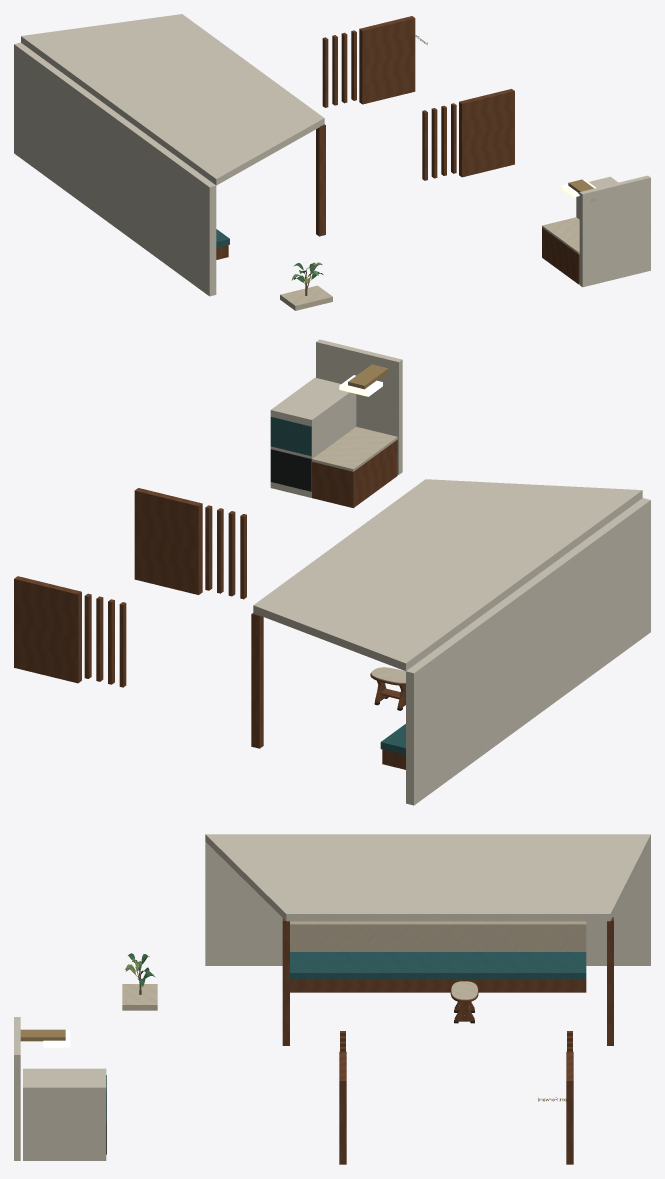
File: port_forward_upper_house.glb
3 views of the same model, one above another, from view 1: azimuth 30°, elevation 25°; view 2: azimuth 150°, elevation 25°; view 3: azimuth 270°, elevation 25° (orthographic). The views are drawn at different scales.
Visible parts, largest first — view 1: QuietFanCover, QuietGalleryBacking, CareTaskBacking, InnerPrivacyReturn0, InnerPrivacyReturn1, CareWorkBay, FanBearingPost1, GalleryPlantPlinth, CareStoneSurface, InnerScreenSlat0_1, InnerScreenSlat0_3, InnerScreenSlat1_2; view 2: QuietFanCover, QuietGalleryBacking, InnerPrivacyReturn1, InnerPrivacyReturn0, CareTaskBacking, CareClosedStore, CareWorkBay, CareStoneSurface, FanBearingPost0, CareUsedReturnInset, CareCleanClosedInset, InnerScreenSlat0_3 (+4 smaller); view 3: QuietFanCover, QuietGalleryBacking, FittedQuietBenchBack, FittedQuietBenchCushion, CareClosedStore, FittedQuietBenchFoot, FanBearingPost1, CareTaskBacking, GalleryPlantPlinth, InnerPrivacyReturn0, InnerPrivacyReturn1, FanBearingPost0 (+1 smaller).
Boxes of the visible parts, x1=… form: QuietFanCover: x1=21, y1=14, x2=324, y2=185; QuietGalleryBacking: x1=14, y1=42, x2=216, y2=296; CareTaskBacking: x1=579, y1=175, x2=650, y2=287; InnerPrivacyReturn0: x1=359, y1=16, x2=415, y2=104; InnerPrivacyReturn1: x1=459, y1=89, x2=514, y2=177; CareWorkBay: x1=542, y1=228, x2=579, y2=284; FanBearingPost1: x1=316, y1=124, x2=325, y2=236; GalleryPlantPlinth: x1=280, y1=285, x2=332, y2=310; CareStoneSurface: x1=542, y1=217, x2=579, y2=254; InnerScreenSlat0_1: x1=341, y1=32, x2=347, y2=103; InnerScreenSlat0_3: x1=322, y1=37, x2=328, y2=107; InnerScreenSlat1_2: x1=431, y1=108, x2=437, y2=178; QuietFanCover: x1=253, y1=479, x2=642, y2=671; QuietGalleryBacking: x1=406, y1=498, x2=650, y2=805; InnerPrivacyReturn1: x1=134, y1=488, x2=202, y2=594; InnerPrivacyReturn0: x1=14, y1=576, x2=81, y2=683; CareTaskBacking: x1=316, y1=339, x2=402, y2=474; CareClosedStore: x1=270, y1=377, x2=356, y2=497; CareWorkBay: x1=312, y1=440, x2=397, y2=508; CareStoneSurface: x1=312, y1=427, x2=397, y2=471; FanBearingPost0: x1=251, y1=612, x2=263, y2=748; CareUsedReturnInset: x1=270, y1=449, x2=311, y2=491; CareCleanClosedInset: x1=270, y1=416, x2=311, y2=455; InnerScreenSlat0_3: x1=119, y1=602, x2=126, y2=687; QuietFanCover: x1=205, y1=834, x2=650, y2=921; QuietGalleryBacking: x1=205, y1=842, x2=650, y2=965; FittedQuietBenchBack: x1=290, y1=921, x2=586, y2=951; FittedQuietBenchCushion: x1=290, y1=952, x2=586, y2=979; CareClosedStore: x1=23, y1=1068, x2=106, y2=1160; FittedQuietBenchFoot: x1=290, y1=979, x2=586, y2=992; FanBearingPost1: x1=282, y1=918, x2=289, y2=1045; CareTaskBacking: x1=14, y1=1017, x2=20, y2=1160; GalleryPlantPlinth: x1=122, y1=984, x2=157, y2=1010; InnerPrivacyReturn0: x1=566, y1=1051, x2=573, y2=1164; InnerPrivacyReturn1: x1=339, y1=1051, x2=346, y2=1164; FanBearingPost0: x1=607, y1=917, x2=613, y2=1045.
Size of the model in its own units: 10.65 by 3.23 by 14.15.
Materials: 23 (22 with a texture image).
